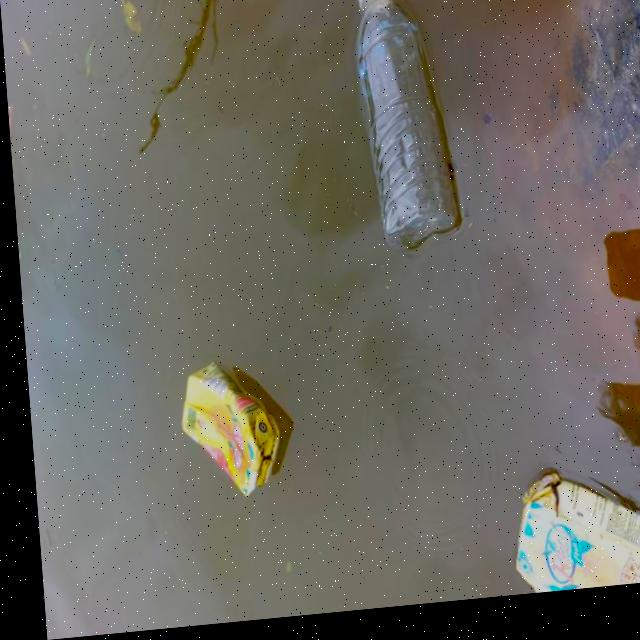paper: (146, 351, 302, 526), (490, 448, 640, 605)
waterbottle: (327, 0, 495, 258)
